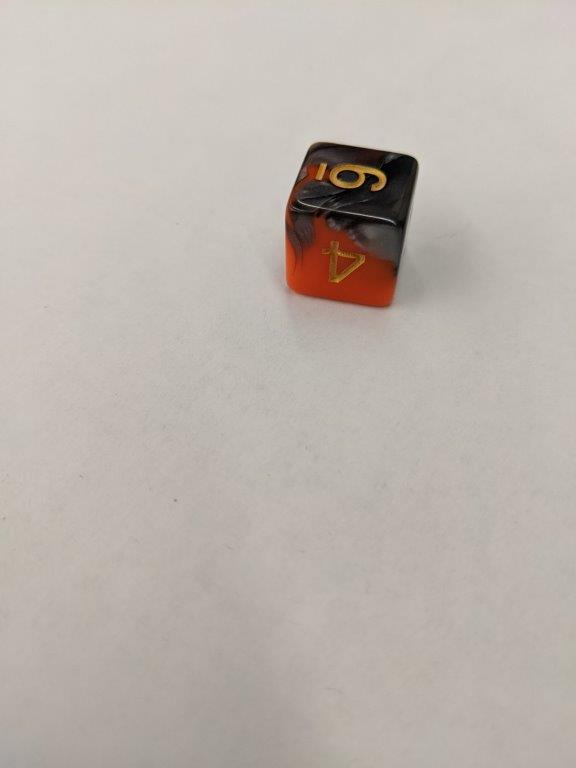d6-6: (285, 140, 418, 308)
